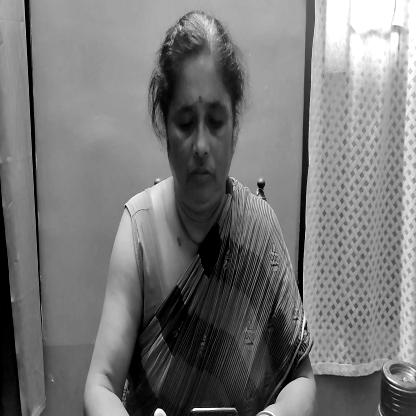Normal: (153, 18, 244, 218)
